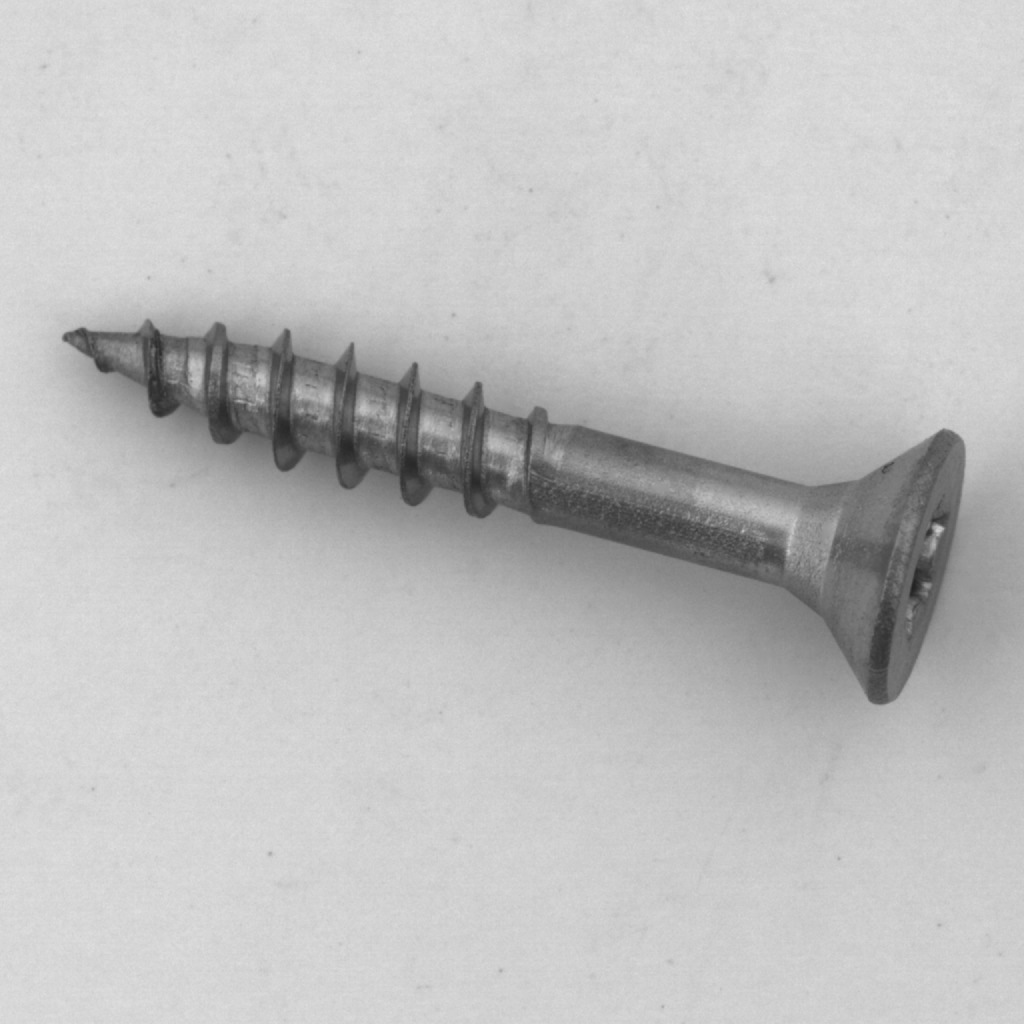good: (43, 300, 975, 730)
